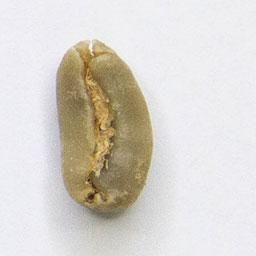longberry: (52, 35, 157, 214)
